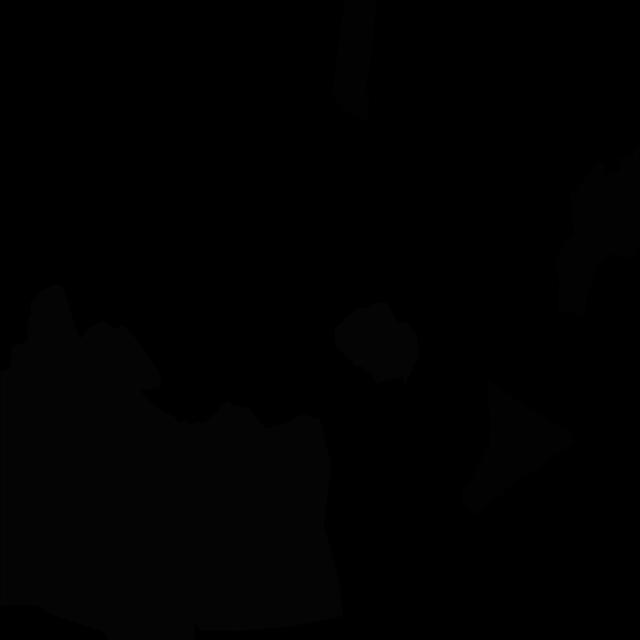cardboard: (462, 378, 574, 515), (555, 144, 640, 318), (332, 0, 377, 120)
soft_plastic: (76, 320, 342, 631), (0, 284, 195, 640), (334, 302, 418, 384)
